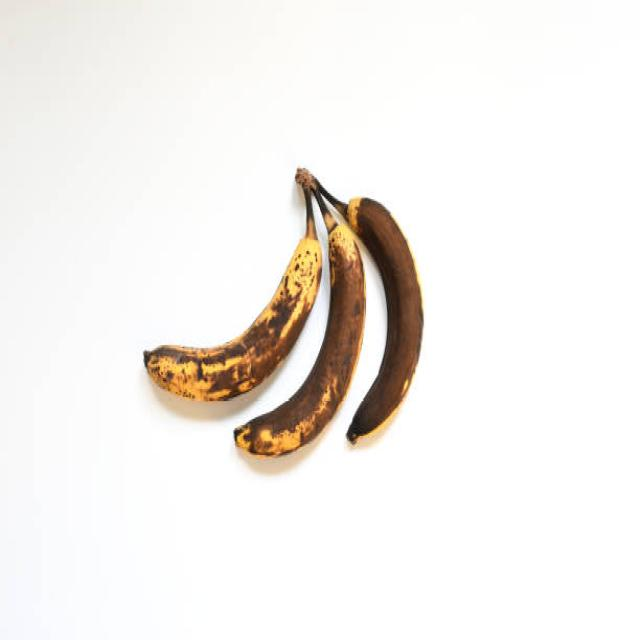Rotten: (343, 191, 423, 452)
